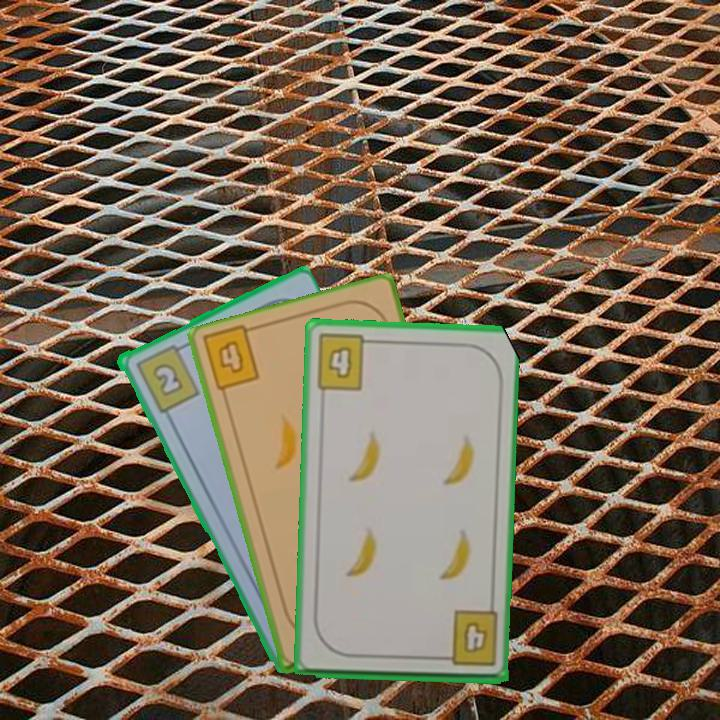2b: (131, 340, 202, 415)
4b: (434, 607, 501, 670), (312, 331, 378, 393), (213, 336, 246, 377)
